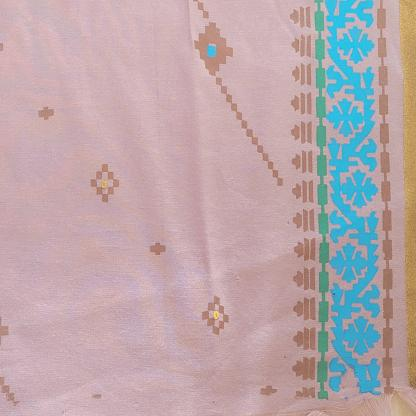spot: (340, 390, 354, 404), (91, 391, 104, 399)
